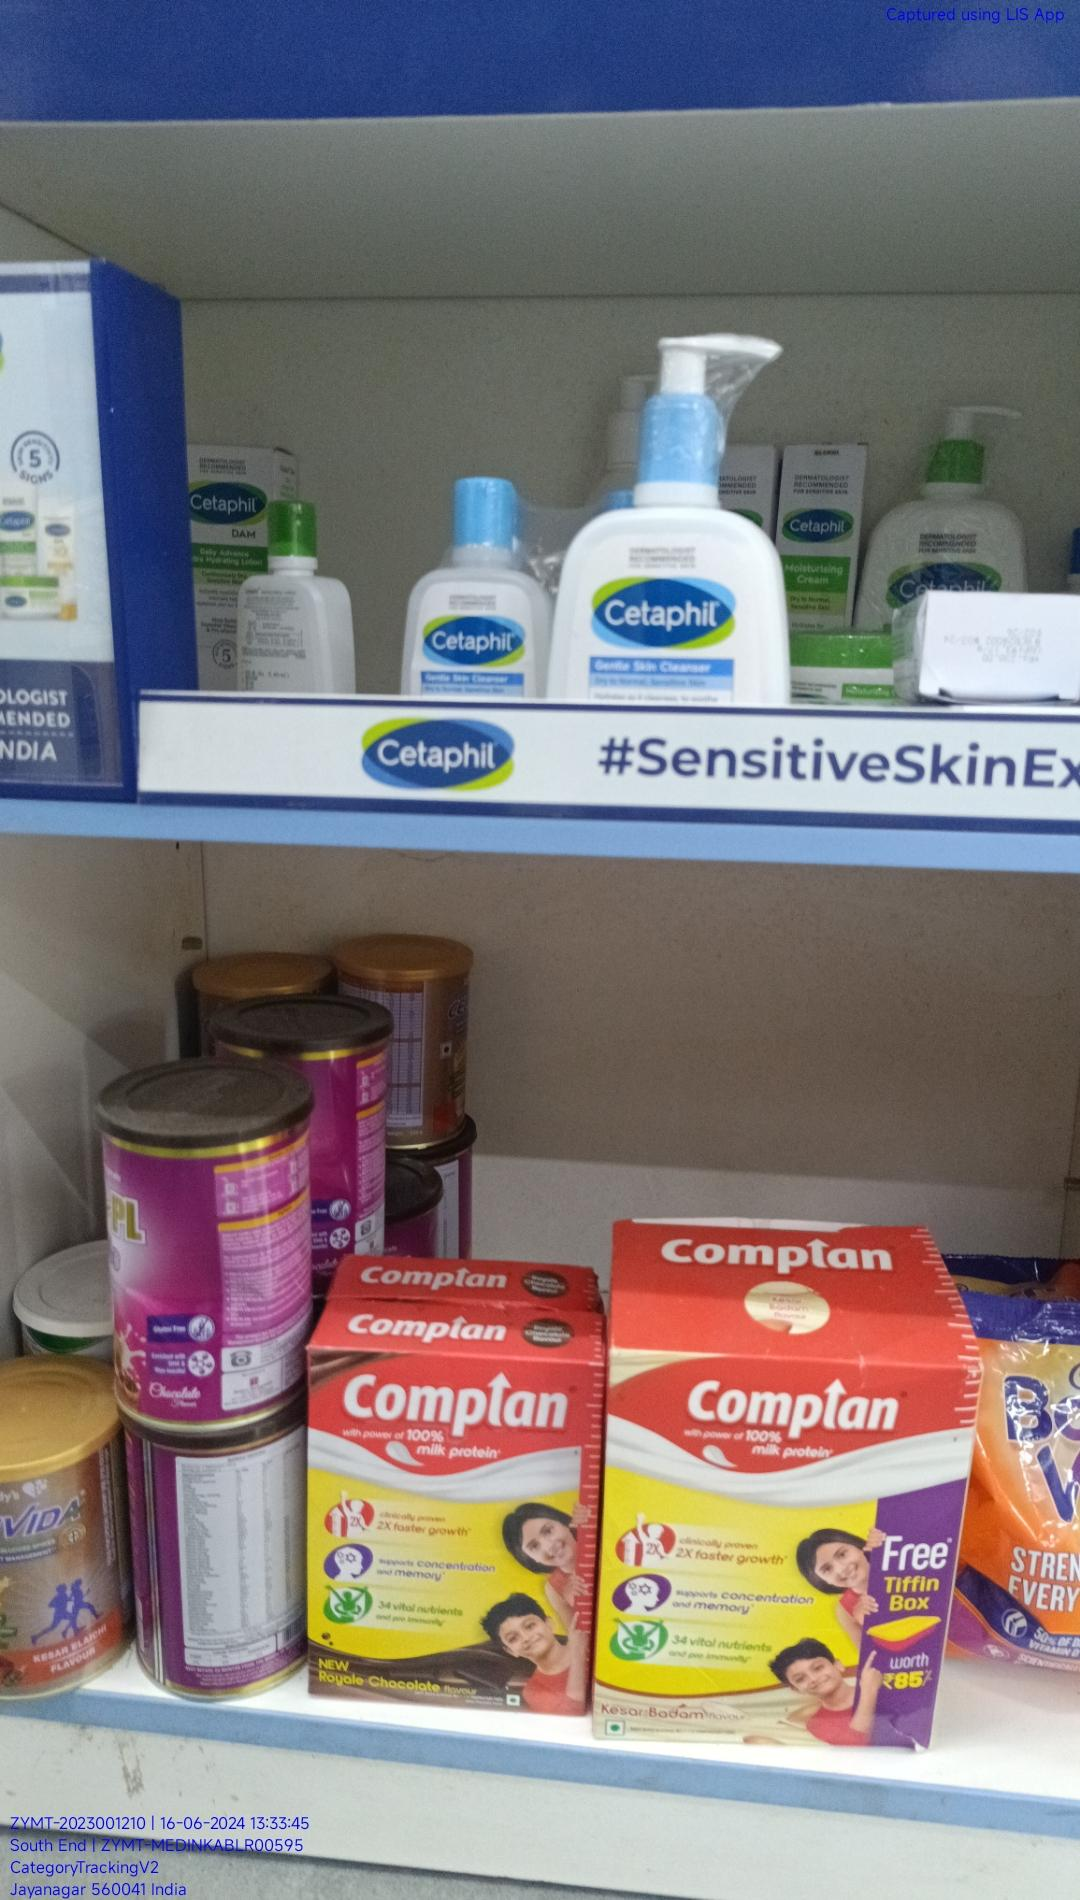COMPLAN_CHOCOLATE_200_GMS_PACK: (305, 1348, 587, 1719)
